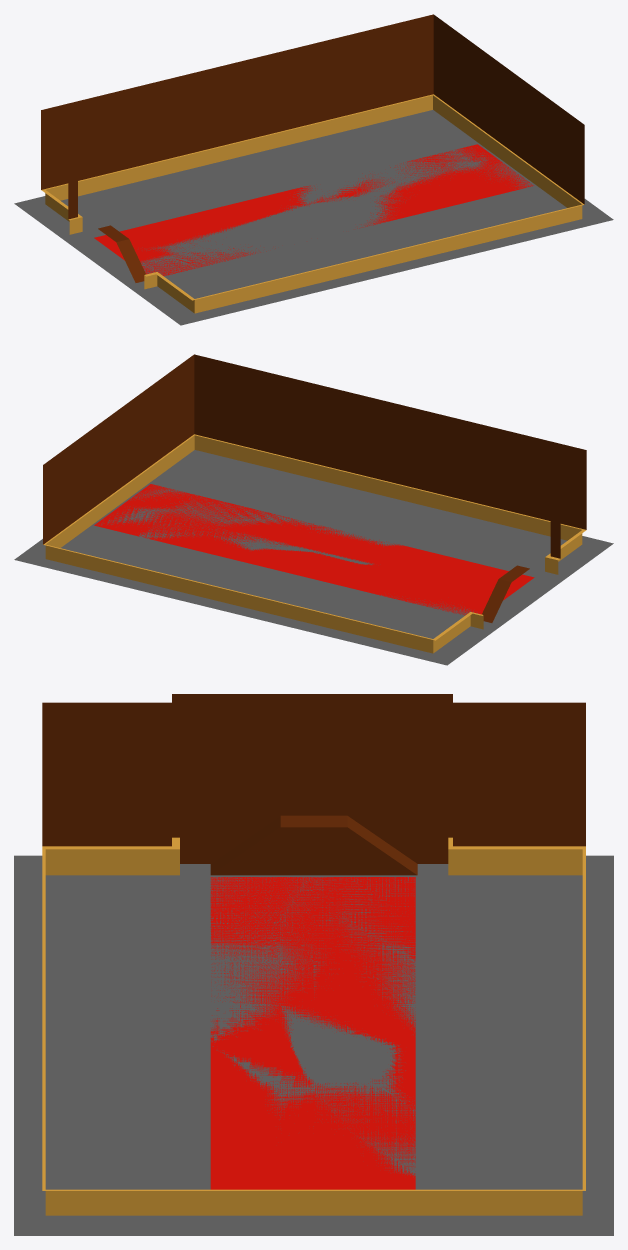
The model's file is PalaceMap_Test.fbx.
The picture shows the model from 3 angles, top to bottom: view 1: azimuth 30°, elevation 25°; view 2: azimuth 150°, elevation 25°; view 3: azimuth 270°, elevation 25°; orthographic projection. The views are drawn at different scales.
Visible parts, largest first — view 1: Walls, Floor, Carpet; view 2: Walls, Floor, Carpet; view 3: Floor, Walls, Carpet.
Part boxes in pixels (left/top/right/bottom): Walls: left=41, top=14, right=584, bottom=313; Floor: left=14, top=110, right=613, bottom=325; Carpet: left=94, top=144, right=533, bottom=275; Walls: left=43, top=354, right=586, bottom=653; Floor: left=14, top=450, right=613, bottom=665; Carpet: left=94, top=484, right=534, bottom=615; Floor: left=14, top=855, right=613, bottom=1235; Walls: left=42, top=694, right=585, bottom=1215; Carpet: left=210, top=877, right=415, bottom=1189.
Size of the model in its own units: 3000 by 624 by 2000.
